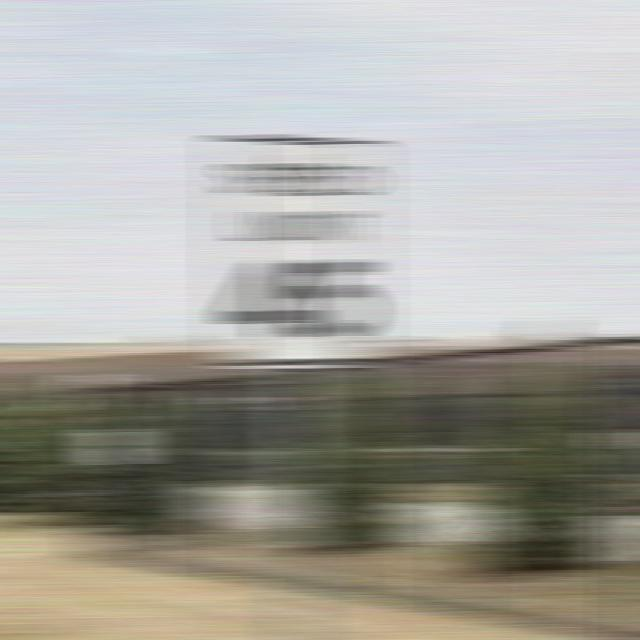speedLimit45: (217, 130, 381, 371)
